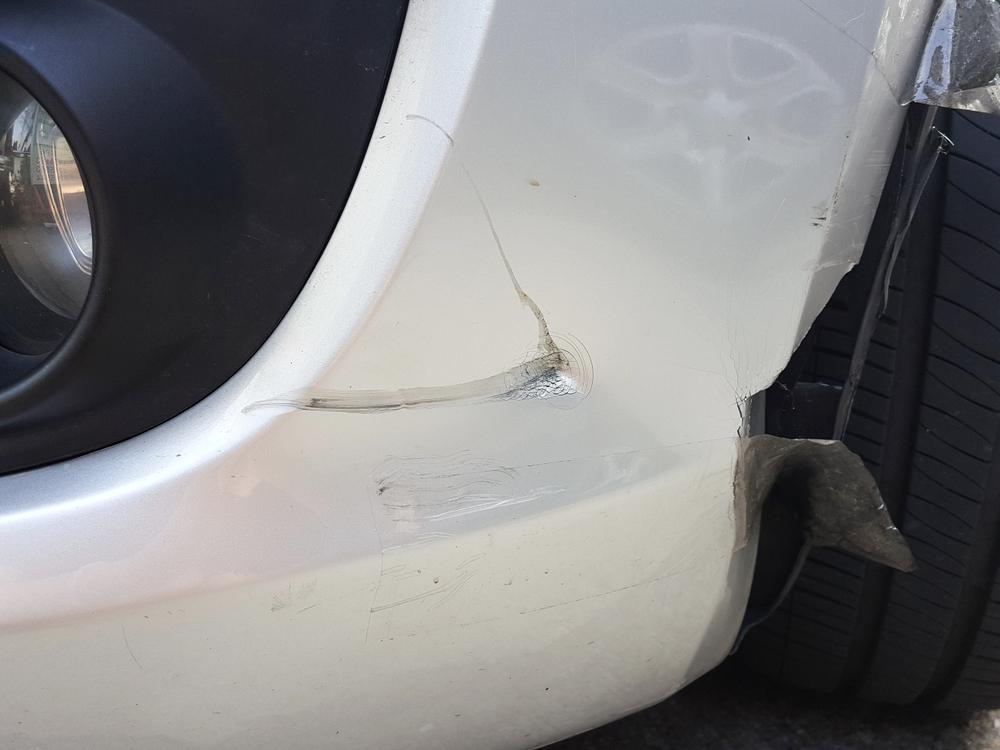dent: (504, 333, 591, 404)
scratch: (403, 110, 555, 333), (240, 370, 509, 414)
